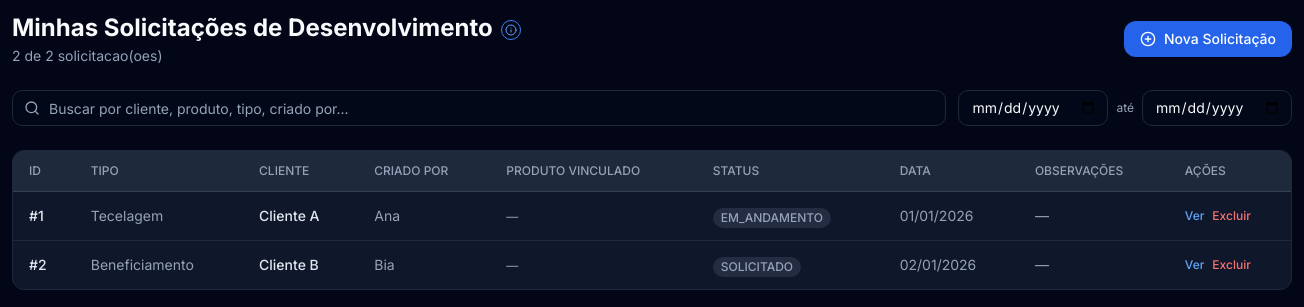
Test: ListaSolicitacoesPage › filtra a lista pela busca
Expected: the text "Cliente A" is shown, [243,192,358,240]
Type "cliente a" into the field with placeholder "Buscar por cliente, produto, tipo, criado por...".
click(479, 108); type("cliente a")  # box [12,90,946,126]
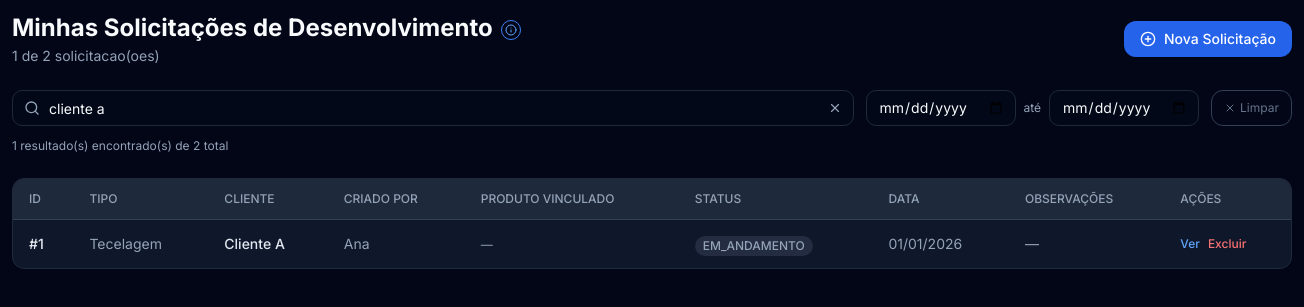
Expected: the text "Cliente A" is shown, [208,220,328,268]
Now the text "Cliente B" is gone
